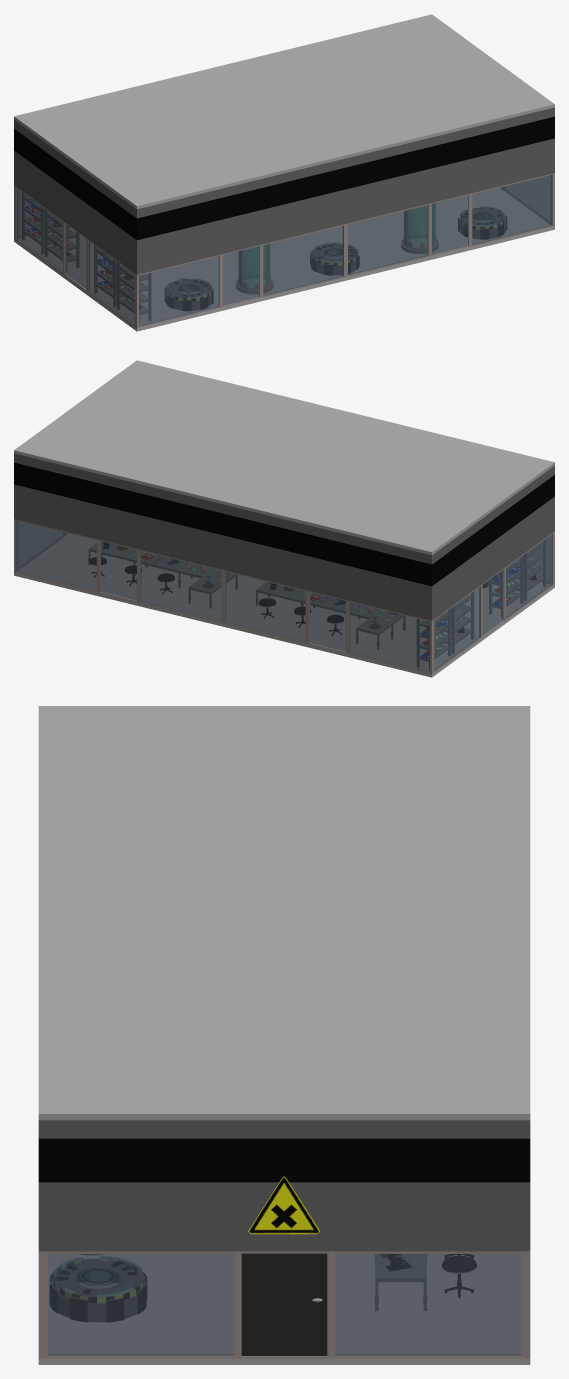
File: lab.fbx
3 views of the same model, one above another, from view 1: azimuth 30°, elevation 25°; view 2: azimuth 150°, elevation 25°; view 3: azimuth 270°, elevation 25° (orthographic). The views are drawn at different scales.
Visible parts, largest first — view 1: lab; view 2: lab; view 3: lab.
Boxes of the visible parts, box(x1,y1,x2,y2) form: lab: box(14, 14, 554, 331); lab: box(14, 360, 554, 677); lab: box(38, 706, 530, 1364).
Size of the model in its own units: 5171 by 1481 by 2632.
Materials: 40 (1 with a texture image).
